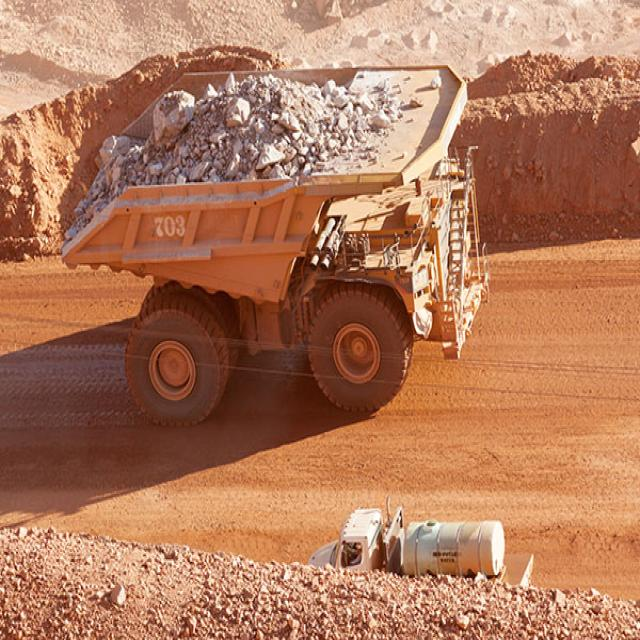dump_truck: (71, 49, 488, 428)
